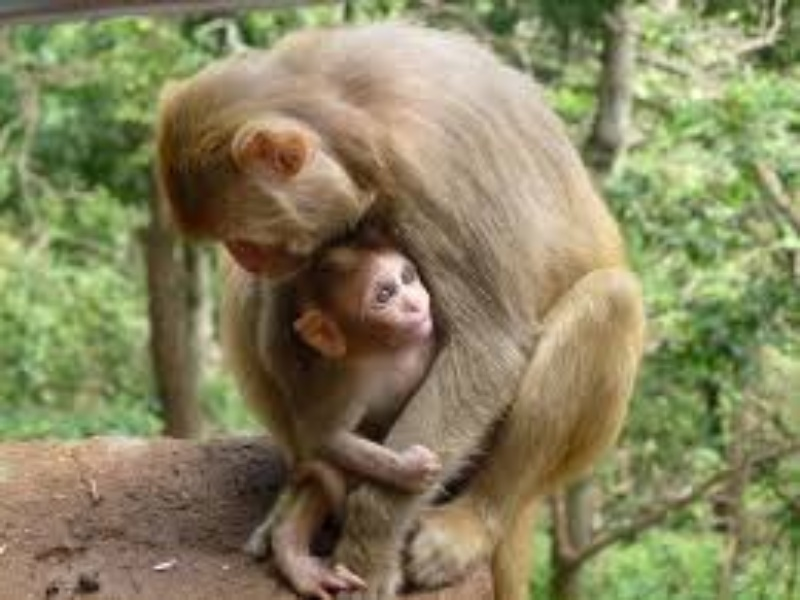monkey: (130, 15, 644, 585)
